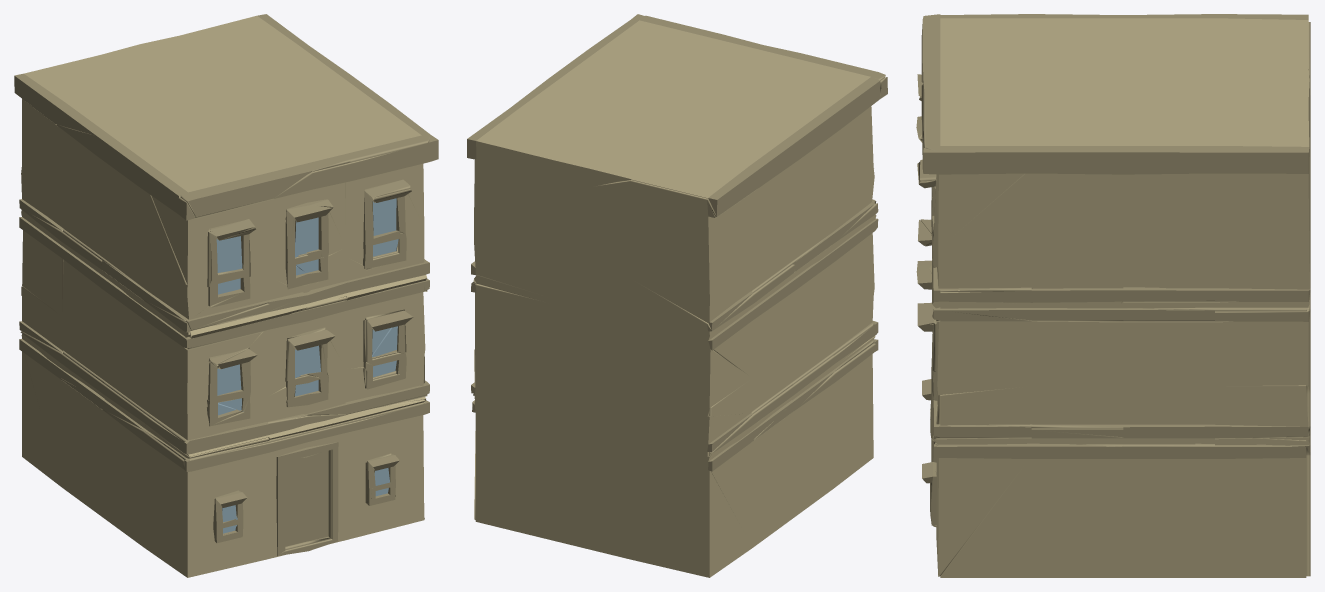
File: building.fbx
The picture shows the model from 3 angles, left to right: view 1: azimuth 30°, elevation 25°; view 2: azimuth 150°, elevation 25°; view 3: azimuth 270°, elevation 25°; orthographic projection. The views are drawn at different scales.
Parts seen in each view (by area): view 1: building_shattler32, building_shattler50, building_shattler59, building_shattler15, building_shattler38, building_shattler93, building_shattler53, building_shattler6, building_shattler7, building_shattler5, building_shattler70, building_shattler8 (+48 smaller); view 2: building_shattler52, building_shattler32, building_shattler38, building_shattler17, building_shattler59, building_shattler13, building_shattler15, building_shattler10, building_shattler34, building_shattler93, building_shattler70, building_shattler7 (+18 smaller); view 3: building_shattler41, building_shattler32, building_shattler15, building_shattler56, building_shattler23, building_shattler34, building_shattler8, building_shattler46, building_shattler93, building_shattler70, building_shattler3, building_shattler21 (+16 smaller).
Part boxes in pixels (x1,y1,x2,y2): building_shattler32: [14, 35, 261, 191]; building_shattler50: [144, 433, 308, 577]; building_shattler59: [24, 353, 184, 547]; building_shattler15: [222, 46, 430, 162]; building_shattler38: [22, 99, 186, 284]; building_shattler93: [180, 104, 350, 216]; building_shattler53: [345, 401, 429, 539]; building_shattler6: [151, 172, 345, 286]; building_shattler7: [61, 248, 193, 375]; building_shattler5: [104, 321, 267, 415]; building_shattler70: [180, 14, 339, 75]; building_shattler8: [311, 281, 427, 389]; building_shattler52: [472, 400, 752, 577]; building_shattler32: [552, 77, 870, 216]; building_shattler38: [591, 131, 873, 287]; building_shattler17: [475, 284, 629, 398]; building_shattler59: [711, 343, 876, 547]; building_shattler13: [475, 178, 707, 324]; building_shattler15: [510, 15, 722, 127]; building_shattler10: [591, 273, 794, 416]; building_shattler34: [471, 159, 552, 275]; building_shattler93: [674, 34, 885, 107]; building_shattler70: [467, 80, 594, 177]; building_shattler7: [752, 218, 878, 377]; building_shattler41: [936, 443, 1306, 577]; building_shattler32: [941, 14, 1310, 123]; building_shattler15: [925, 82, 1300, 249]; building_shattler56: [940, 320, 1302, 425]; building_shattler23: [949, 385, 1308, 438]; building_shattler34: [1123, 125, 1310, 301]; building_shattler8: [932, 307, 1123, 424]; building_shattler46: [1038, 173, 1214, 250]; building_shattler93: [921, 14, 1122, 103]; building_shattler70: [1123, 103, 1310, 173]; building_shattler3: [932, 173, 1122, 267]; building_shattler21: [938, 250, 1213, 288].
Size of the model in its own units: 8.73 by 12.64 by 10.48.
